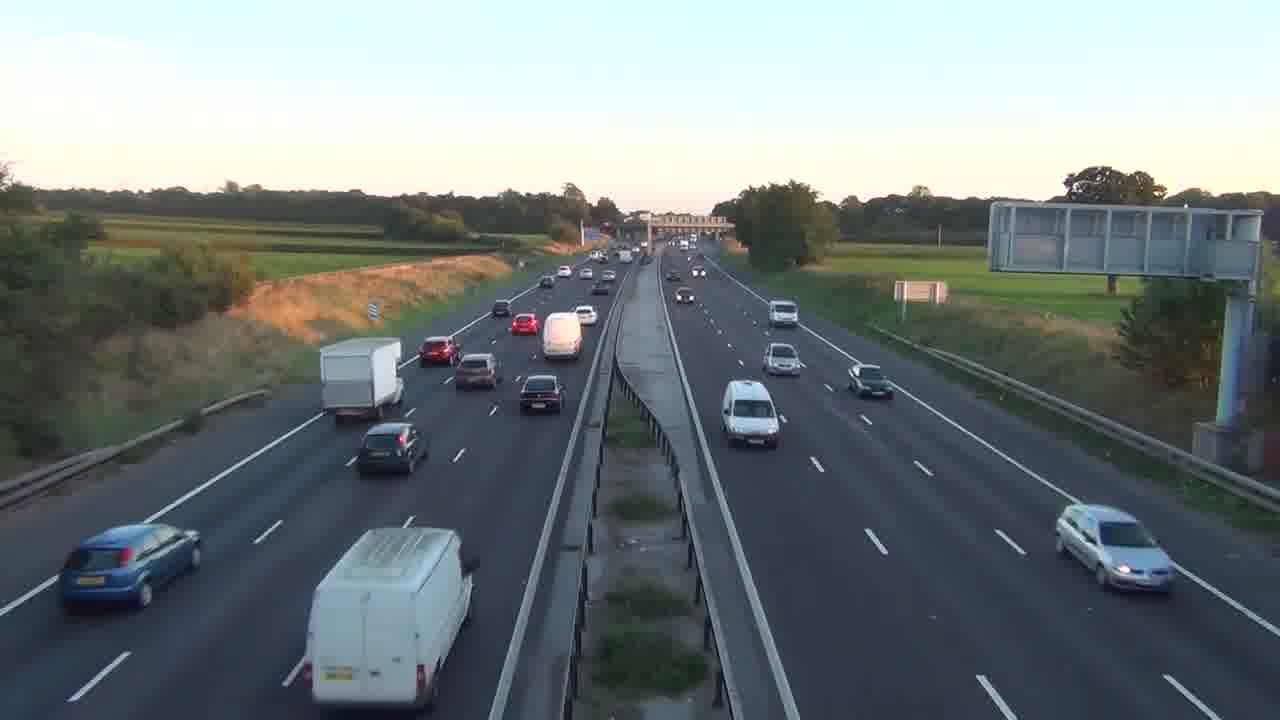car: (59, 521, 202, 609), (1055, 501, 1174, 594), (721, 378, 785, 448), (518, 373, 564, 414), (454, 351, 498, 390), (846, 363, 894, 398), (762, 342, 806, 377), (509, 312, 541, 336), (575, 303, 598, 326)
truck: (304, 522, 480, 709), (320, 337, 404, 423), (768, 299, 800, 327)
